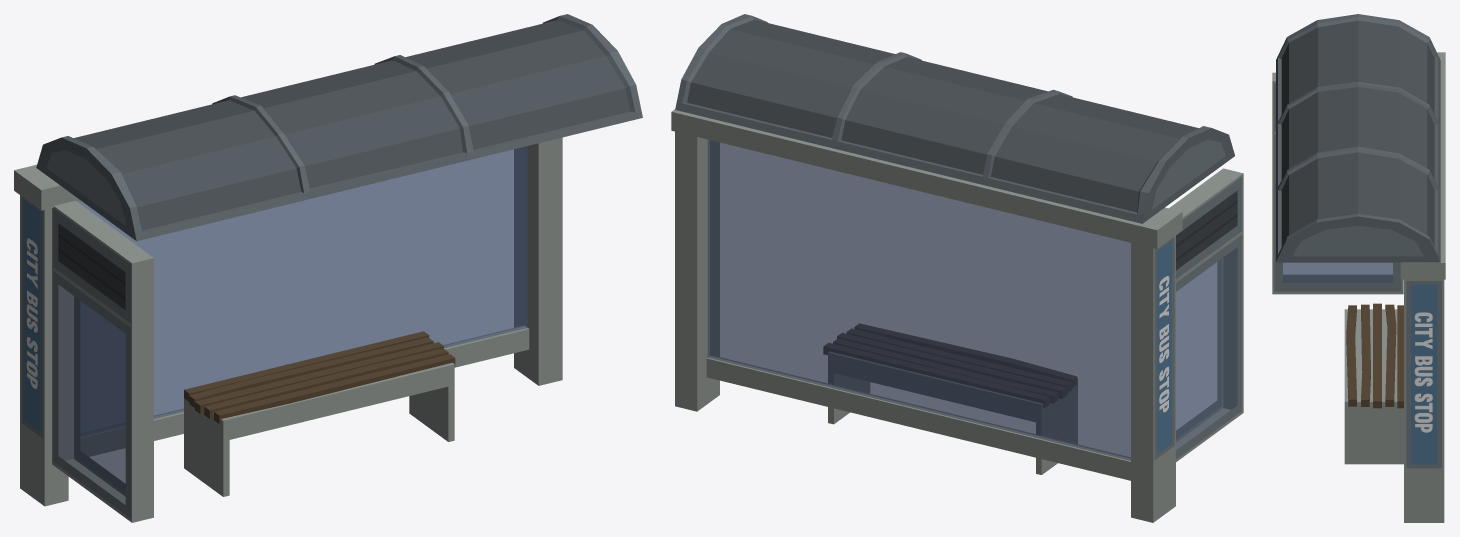
Rendered from Bus Stop.fbx.
3 renders of one model, left to right at view 1: azimuth 30°, elevation 25°; view 2: azimuth 150°, elevation 25°; view 3: azimuth 270°, elevation 25°, orthographic. The views are drawn at different scales.
Parts seen in each view (by area): view 1: Bus_Stop, BusStop_Glass; view 2: Bus_Stop, BusStop_Glass; view 3: Bus_Stop, BusStop_Glass.
Part boxes in pixels (x1,y1,x2,y2): Bus_Stop: (14, 14, 642, 522); BusStop_Glass: (58, 146, 527, 504); Bus_Stop: (671, 14, 1243, 522); BusStop_Glass: (707, 139, 1237, 460); Bus_Stop: (1272, 14, 1445, 522); BusStop_Glass: (1283, 262, 1392, 283).
Bounding box in the file's own units: 4.51 × 3.07 × 1.57.
